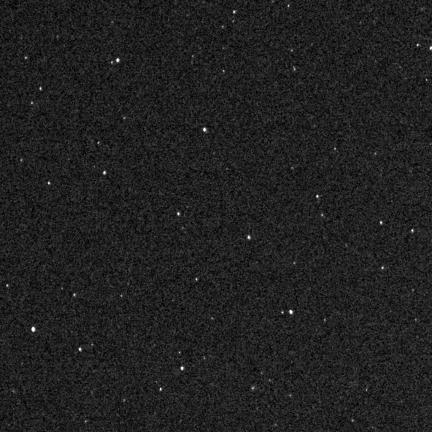blob: (203, 127, 208, 132), (32, 327, 36, 333), (48, 181, 52, 186), (289, 310, 293, 315), (195, 278, 199, 282), (160, 387, 163, 392), (248, 235, 251, 240), (40, 87, 43, 92), (117, 58, 120, 63), (181, 366, 184, 371), (103, 171, 106, 175), (381, 267, 385, 270), (380, 221, 383, 225), (411, 229, 414, 233), (79, 347, 82, 351), (177, 212, 180, 215)
